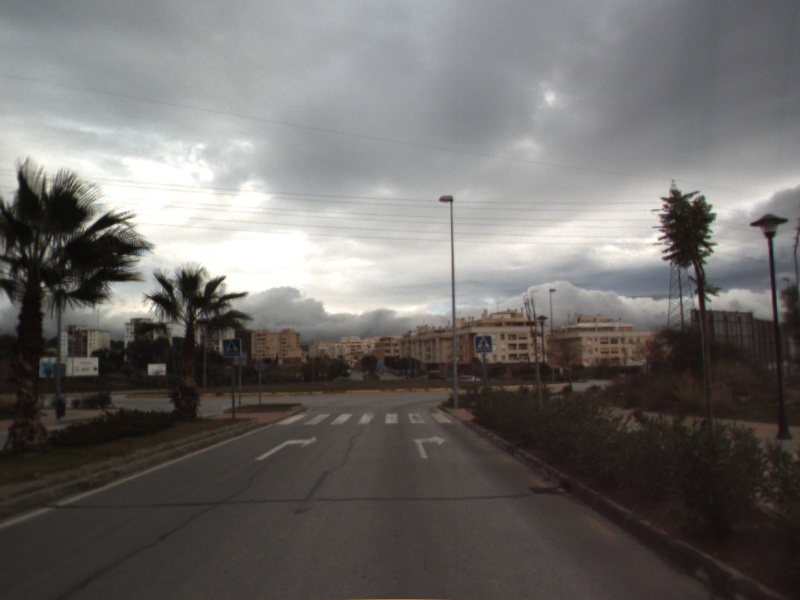RIGHT: (253, 434, 319, 462), (412, 433, 448, 461)
